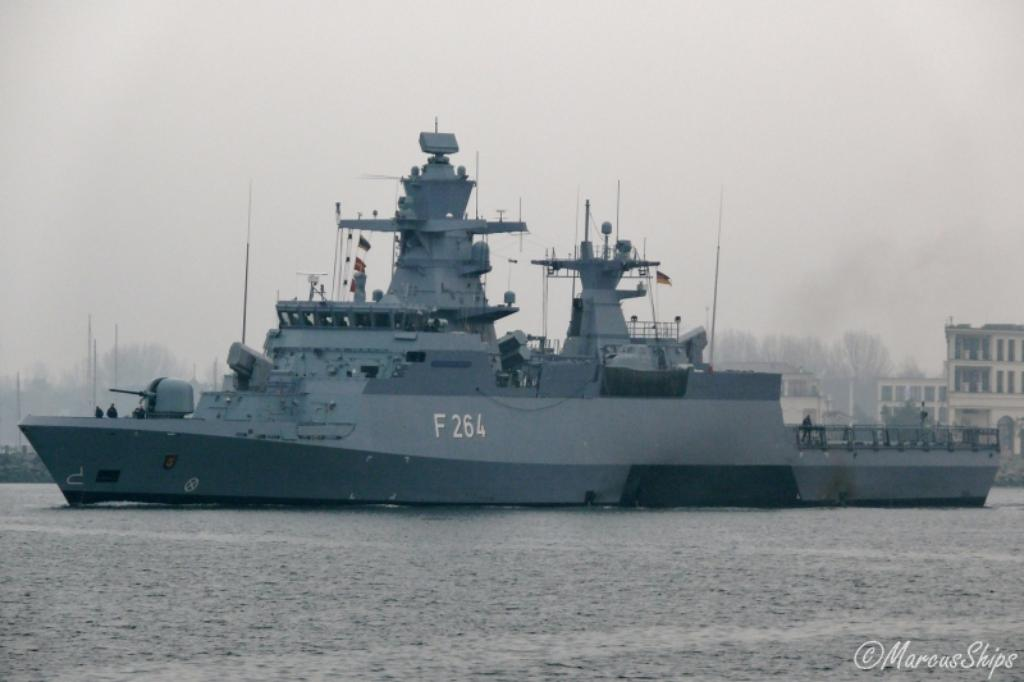Warship: (16, 110, 1004, 516)
